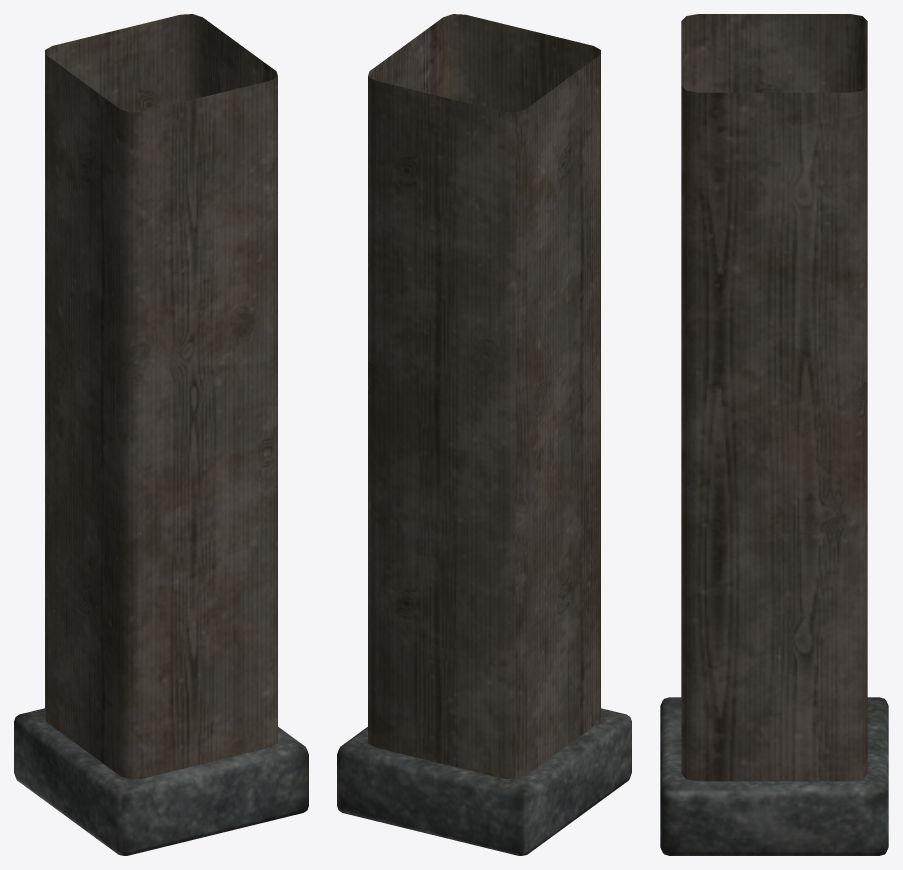
The model's file is ShrineModule_Footing-01.fbx.
The picture shows the model from 3 angles, left to right: view 1: azimuth 30°, elevation 25°; view 2: azimuth 150°, elevation 25°; view 3: azimuth 270°, elevation 25°; orthographic projection. The views are drawn at different scales.
Parts seen in each view (by area): view 1: ShrineModule_Footing-01; view 2: ShrineModule_Footing-01; view 3: ShrineModule_Footing-01.
Part boxes in pixels (<box>): ShrineModule_Footing-01: <box>14,14,308,855</box>; ShrineModule_Footing-01: <box>337,14,631,855</box>; ShrineModule_Footing-01: <box>660,14,888,855</box>.
Size of the model in its own units: 0.3931 by 1.44 by 0.3931.
